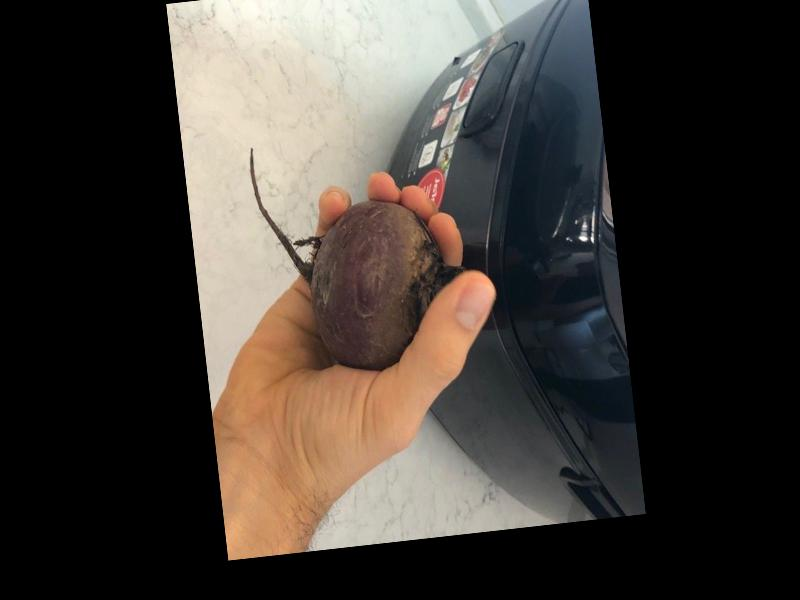Beet: (248, 126, 472, 380)
